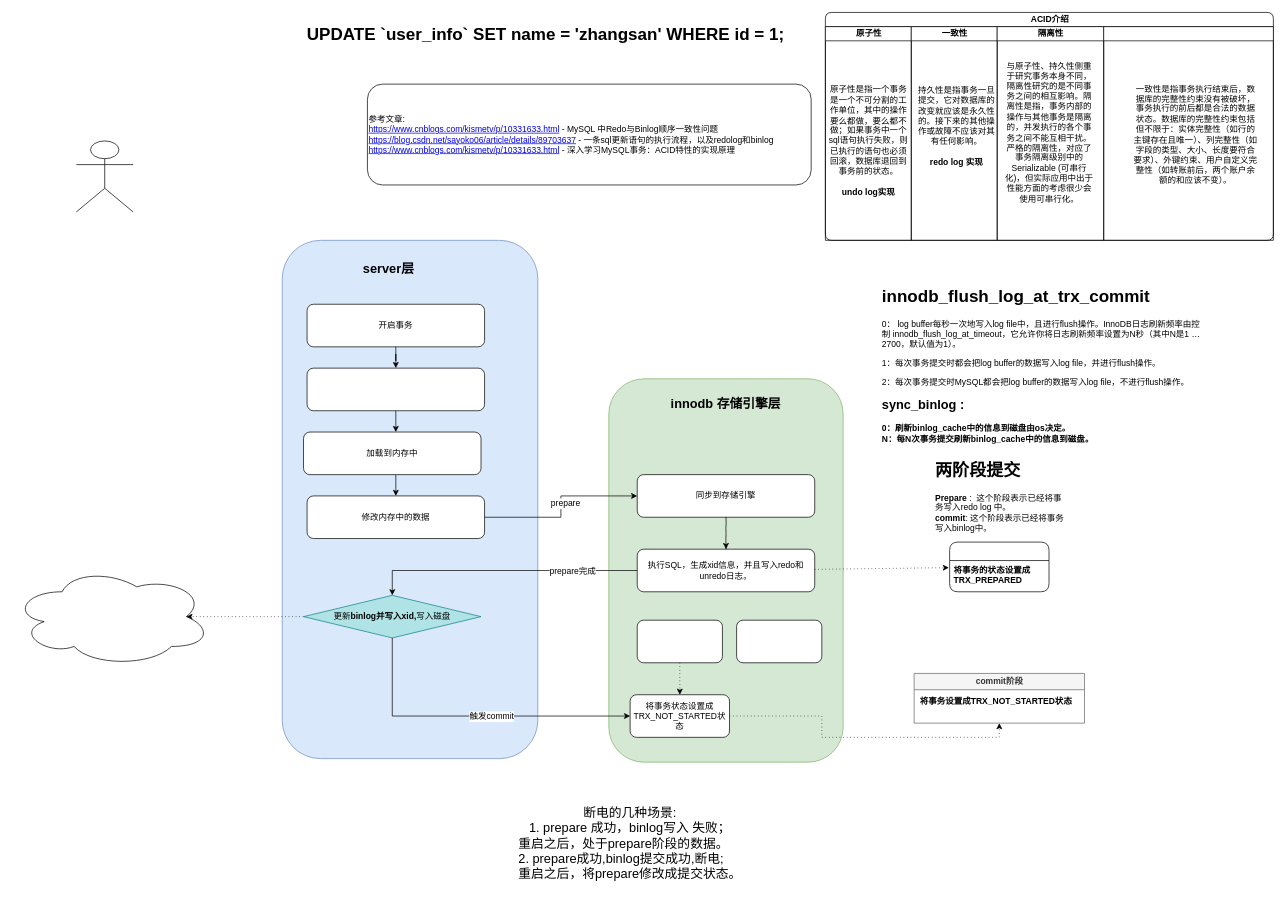
The diagram is 1286 pixels wide and 920 high, and some of its shapes have lost their labels. The box of each missing label's shape, as (x1, y1, x2, y2) in pixels:
Actor: (76, 140, 133, 212)
prepare阶段: (949, 541, 1049, 592)
redo 日志: (637, 619, 722, 663)
unredo 日志: (736, 619, 822, 663)
如果断电，往上的步骤全部回滚， 往下的步骤全部提交: (12, 566, 211, 666)
定位数据: (306, 367, 485, 411)
持久性: (1103, 26, 1273, 240)
